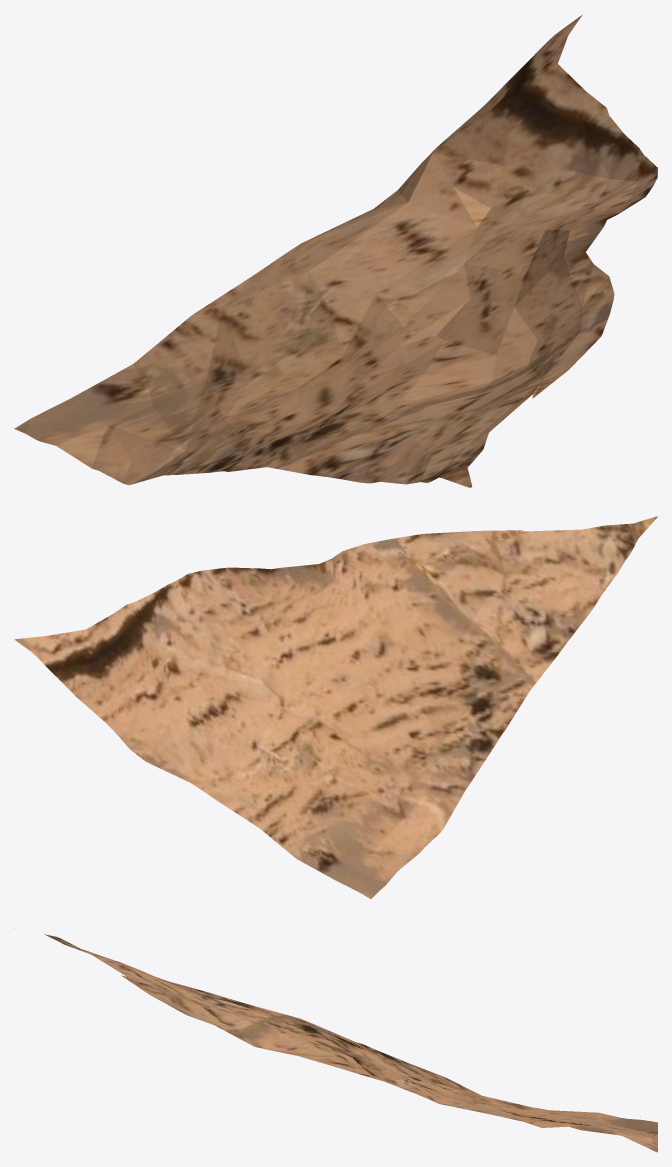
3 renders of one model, top to bottom at view 1: azimuth 30°, elevation 25°; view 2: azimuth 150°, elevation 25°; view 3: azimuth 270°, elevation 25°, orthographic. The views are drawn at different scales.
Size of the model in its own units: 0.4293 by 0.1989 by 0.5974.
Materials: 1 (1 with a texture image).
